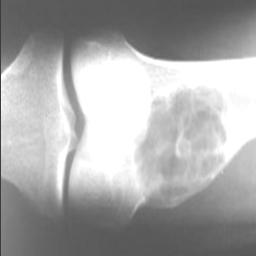cancer: (135, 82, 256, 209)
